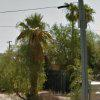Palm tree: (13, 11, 54, 88)
